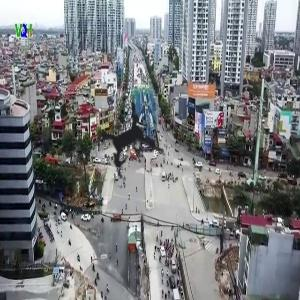drone: (72, 85, 190, 203)
